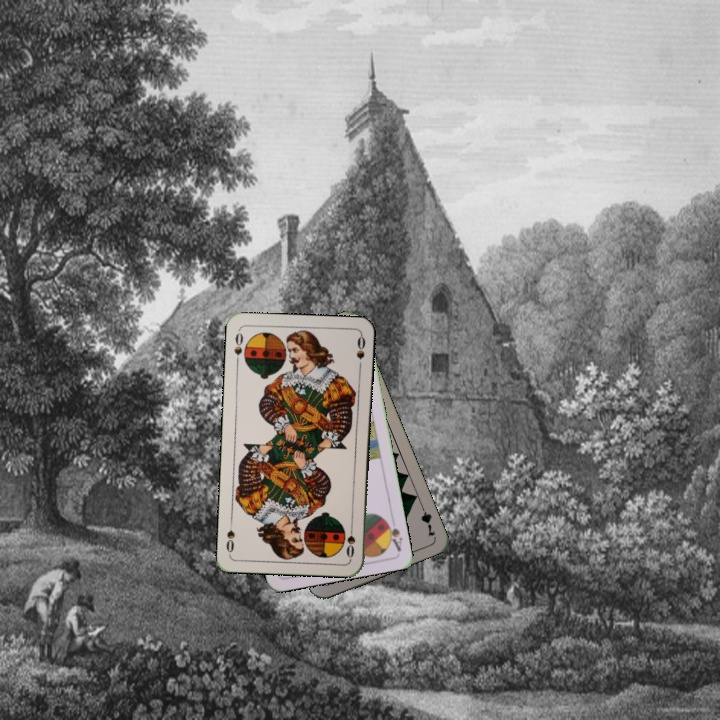G7: (416, 499, 438, 539)
SA: (381, 515, 405, 553)
SO: (342, 520, 358, 561), (230, 329, 245, 367)
